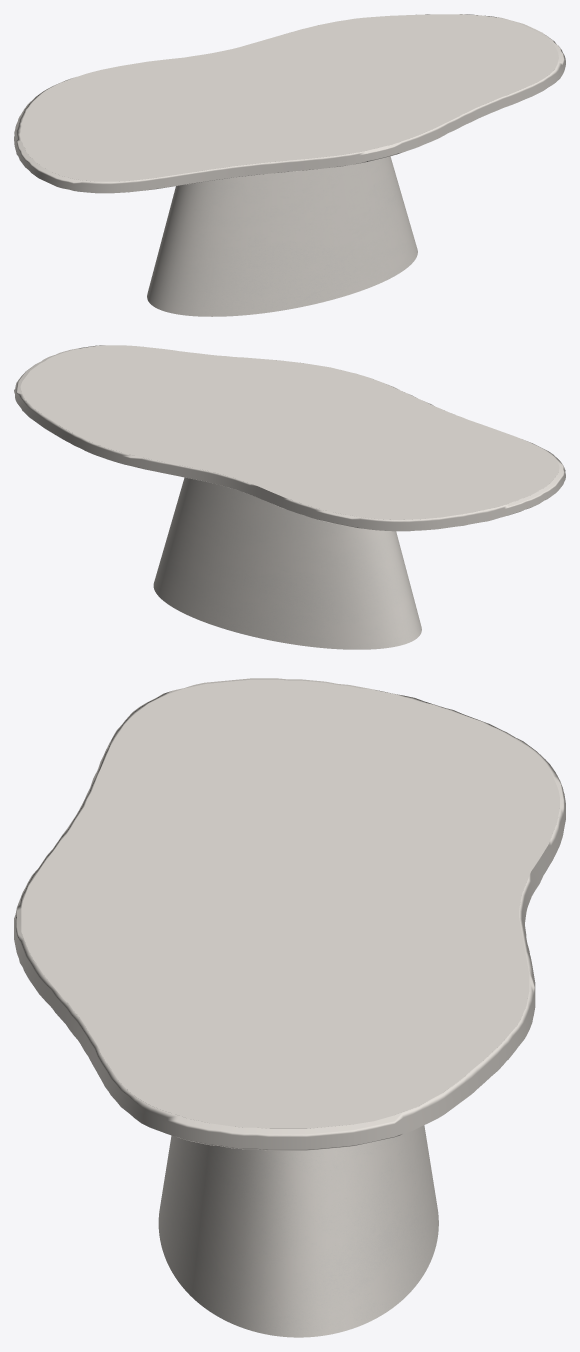
File: pearlwhite_toplast_round_eqone.glb
3 renders of one model, top to bottom at view 1: azimuth 30°, elevation 25°; view 2: azimuth 150°, elevation 25°; view 3: azimuth 270°, elevation 25°, orthographic. The views are drawn at different scales.
Parts seen in each view (by area): view 1: round_toplast, eqone; view 2: round_toplast, eqone; view 3: round_toplast, eqone.
Boxes of the visible parts, <box> form: round_toplast: <box>14,14,565,193</box>; eqone: <box>147,156,417,316</box>; round_toplast: <box>14,345,565,531</box>; eqone: <box>153,477,421,649</box>; round_toplast: <box>14,678,565,1150</box>; eqone: <box>158,1125,438,1337</box>.
Size of the model in its own units: 7.68 by 2.5 by 3.89.
Materials: 1 (1 with a texture image).
